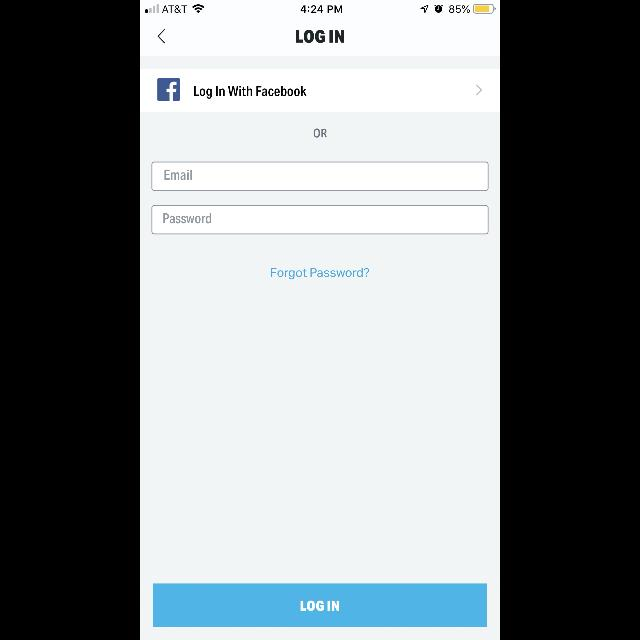icon: (158, 79, 180, 101), (158, 28, 166, 44), (476, 84, 482, 96)
input: (152, 162, 488, 190), (152, 206, 488, 234)
text: (194, 85, 306, 98), (271, 268, 369, 280), (296, 31, 344, 43), (163, 213, 211, 223), (165, 170, 193, 180), (314, 128, 326, 138)
textbutton: (153, 584, 487, 626)
uppertaskbar: (140, 0, 500, 14)
